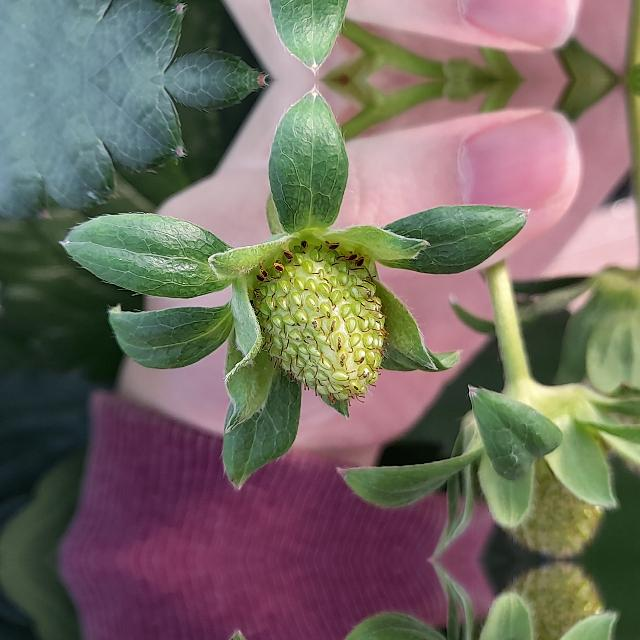Health_25: (252, 240, 388, 406)
